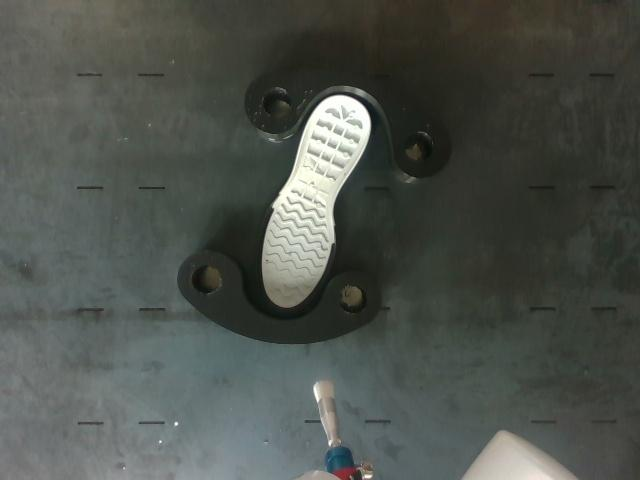shoes: (261, 95, 370, 308)
